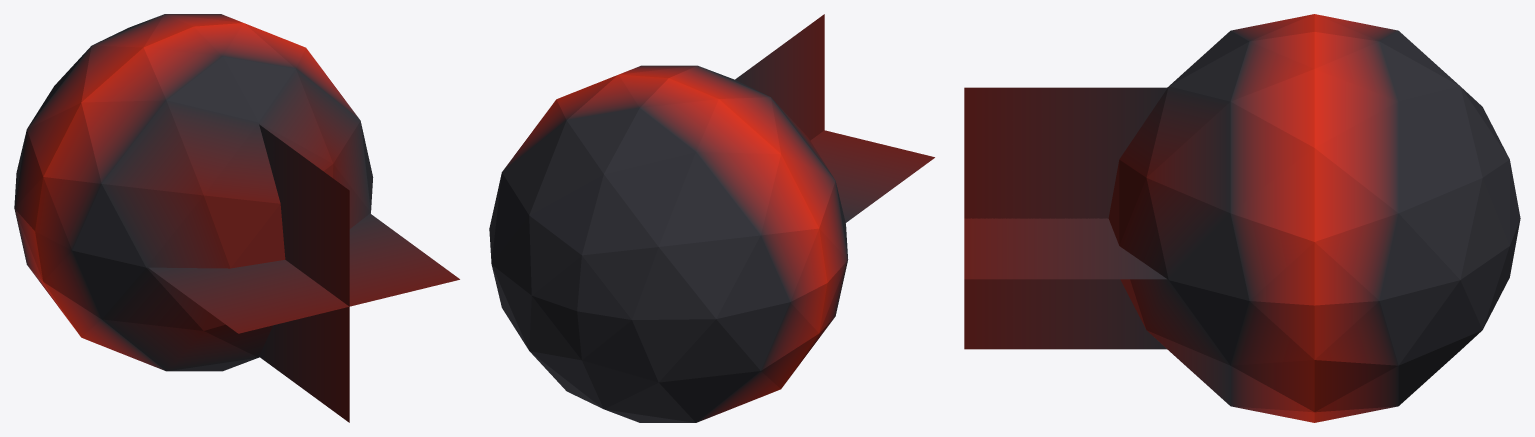
The model's file is bomb.obj.
3 renders of one model, left to right at view 1: azimuth 30°, elevation 25°; view 2: azimuth 150°, elevation 25°; view 3: azimuth 270°, elevation 25°, orthographic. The views are drawn at different scales.
Parts seen in each view (by area): view 1: bomb; view 2: bomb; view 3: bomb.
Boxes of the visible parts, bbox=[...] form: bomb: bbox=[14, 14, 459, 422]; bomb: bbox=[489, 14, 934, 422]; bomb: bbox=[964, 14, 1520, 422].
Size of the model in its own units: 1 by 1 by 1.35.
